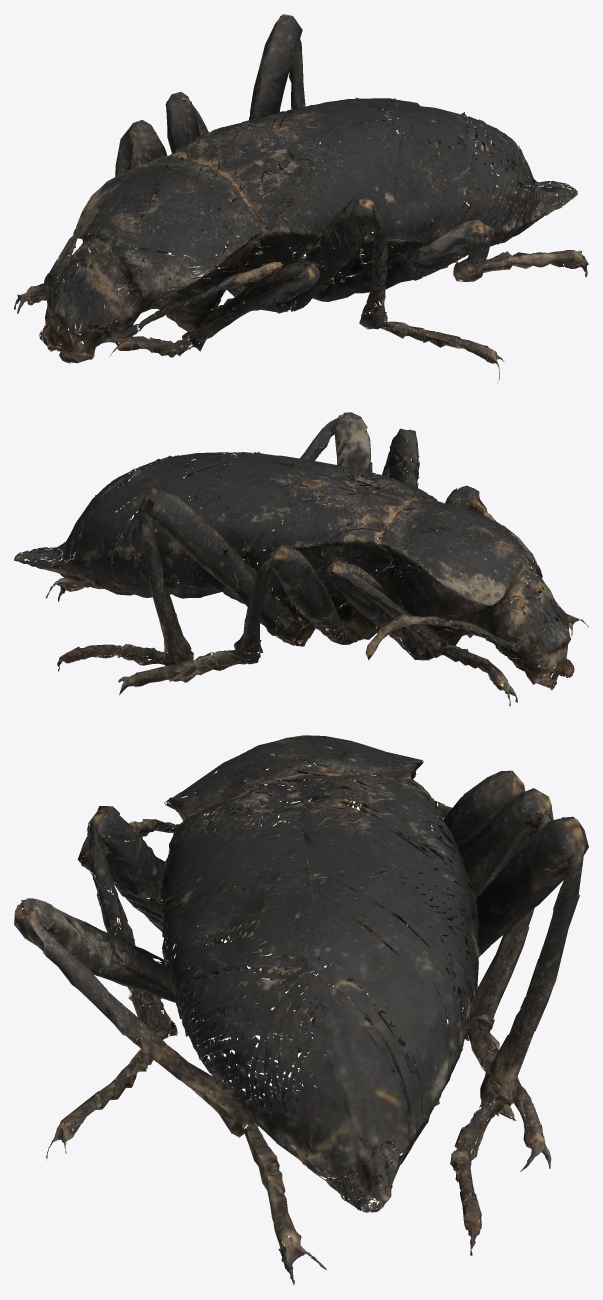
File: beetle.glb
3 renders of one model, top to bottom at view 1: azimuth 30°, elevation 25°; view 2: azimuth 150°, elevation 25°; view 3: azimuth 270°, elevation 25°, orthographic. The views are drawn at different scales.
Parts seen in each view (by area): view 1: Object_4, Object_5, Object_6, Object_3, Object_2; view 2: Object_4, Object_5, Object_6, Object_3, Object_2; view 3: Object_4, Object_5, Object_3, Object_6, Object_2.
Part boxes in pixels (bbox=[...]): Object_4: bbox=[47, 14, 577, 357]; Object_5: bbox=[39, 62, 575, 362]; Object_6: bbox=[27, 102, 577, 358]; Object_3: bbox=[26, 99, 575, 383]; Object_2: bbox=[14, 244, 588, 380]; Object_4: bbox=[14, 417, 572, 683]; Object_5: bbox=[16, 429, 572, 685]; Object_6: bbox=[20, 412, 570, 687]; Object_3: bbox=[62, 413, 588, 686]; Object_2: bbox=[45, 578, 579, 706]; Object_4: bbox=[14, 738, 588, 1212]; Object_5: bbox=[87, 735, 553, 1230]; Object_3: bbox=[21, 770, 542, 1244]; Object_6: bbox=[14, 753, 535, 1256]; Object_2: bbox=[46, 805, 551, 1284].
Size of the model in its own units: 0.9637 by 0.4176 by 0.6329.
1 material, 1 textured.
